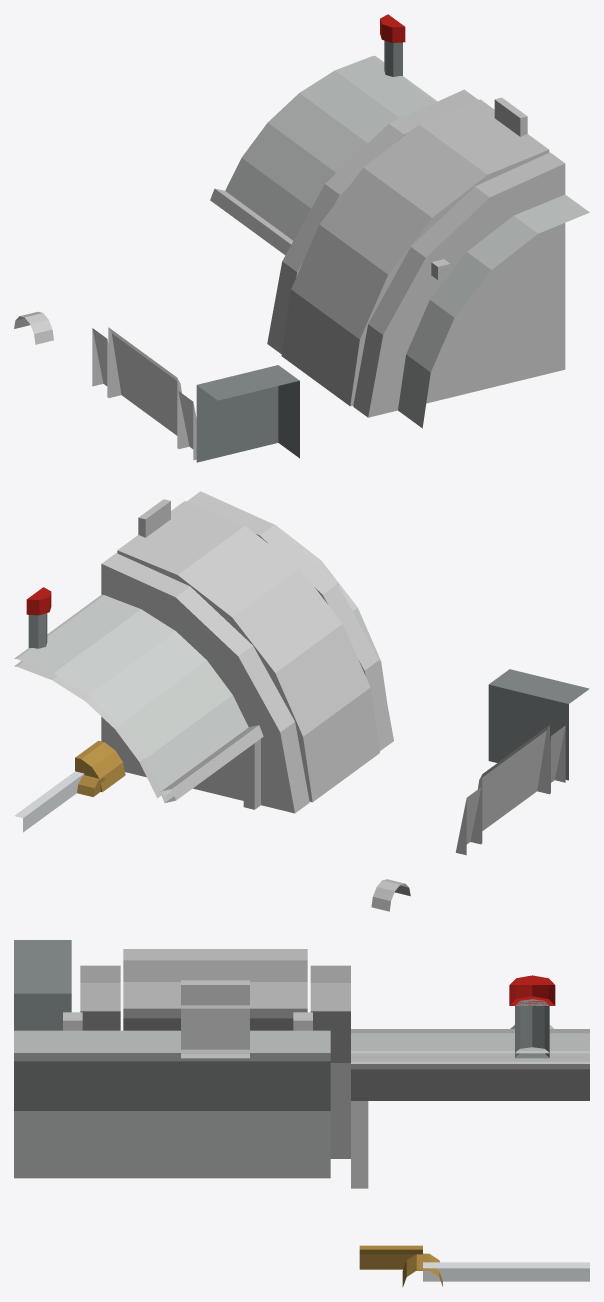
File: cell_93.obj
3 renders of one model, top to bottom at view 1: azimuth 30°, elevation 25°; view 2: azimuth 150°, elevation 25°; view 3: azimuth 270°, elevation 25°, orthographic. The views are drawn at different scales.
Bounding box in the file's own units: 1 × 0.58 × 1.
